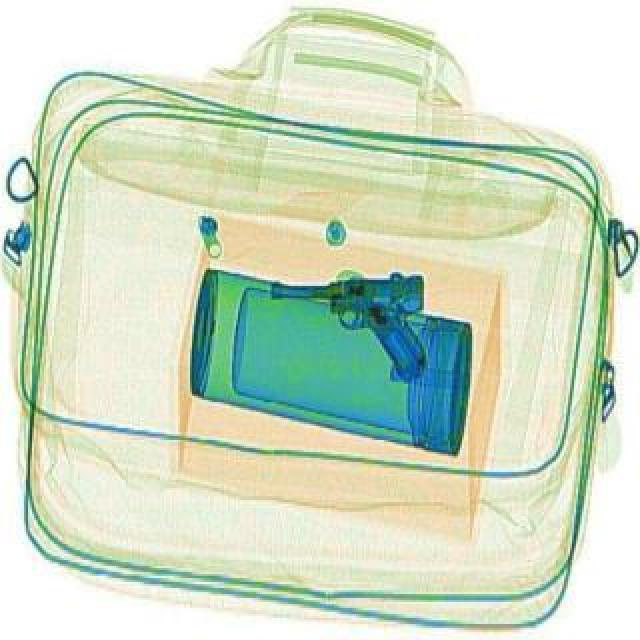gun: (272, 272, 432, 392)
